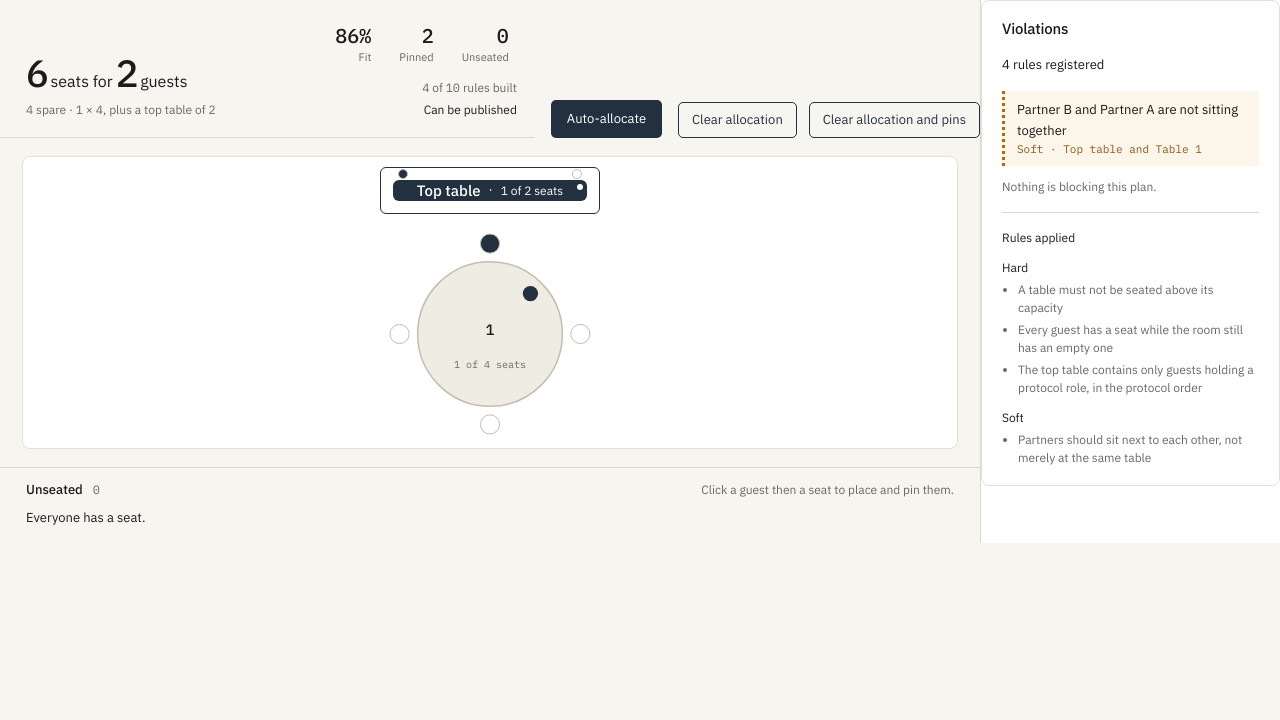
Test: selecting a table while the pinned panel is open › shows that table's detail and removes the pinned panel
Step 1. Click the button "2 Pinned" → click(416, 47), box x1=391 y1=22 x2=442 y2=71
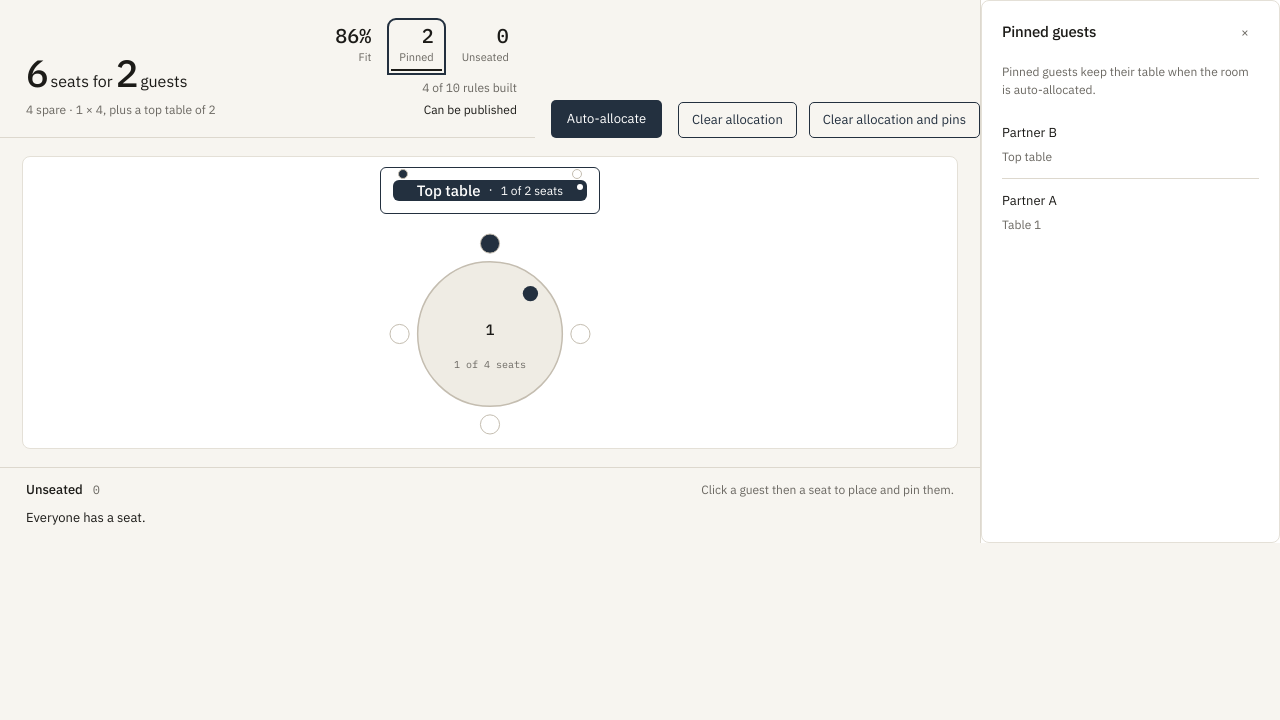
Step 2. Click the button "1 1 of 4 seats" → click(490, 334), box x1=390 y1=234 x2=590 y2=434
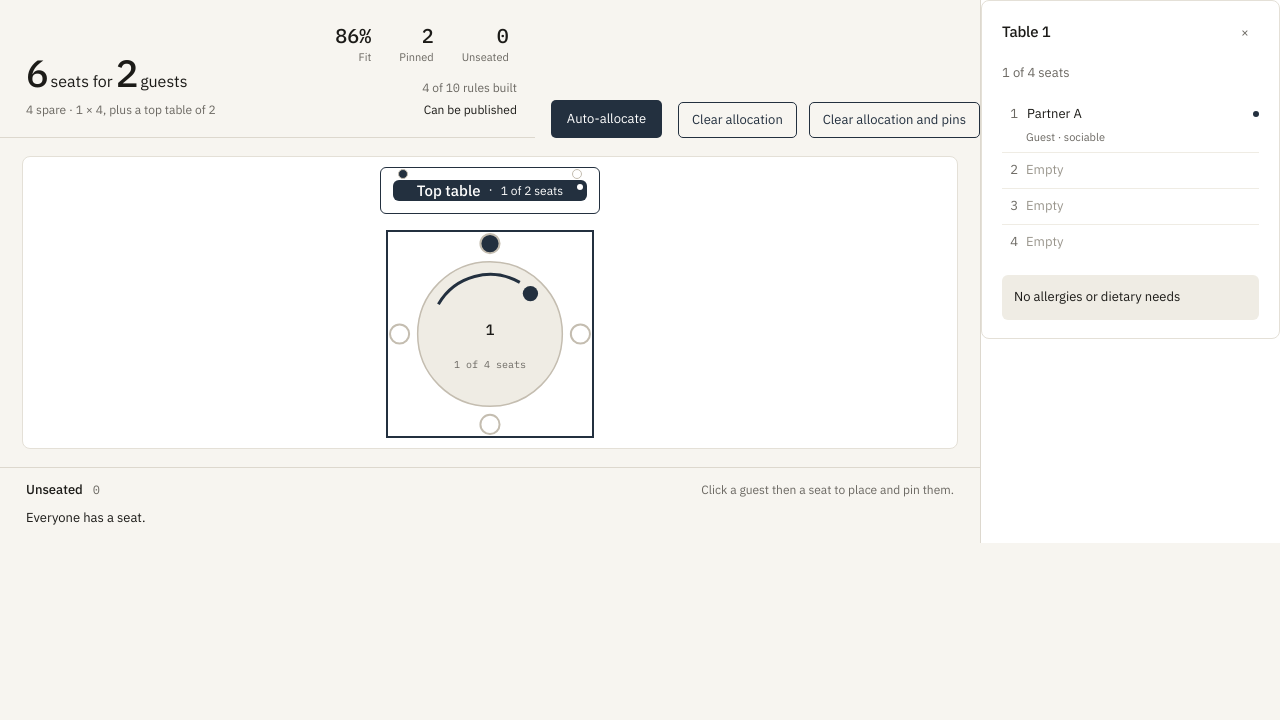
expect the heading "Table 1" is shown: met, box x1=1002 y1=22 x2=1050 y2=41
